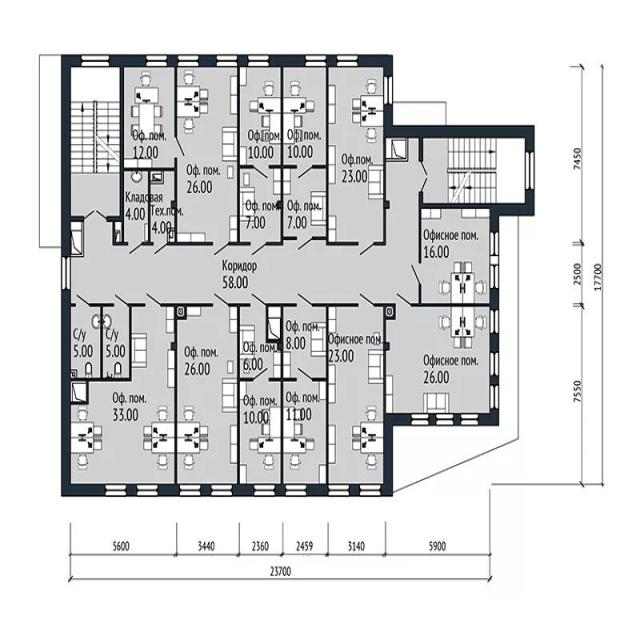Bathrooms: (72, 307, 100, 377), (104, 308, 129, 378)
Corridors: (71, 138, 418, 302), (124, 172, 147, 241), (151, 172, 174, 241)
Doors: (418, 161, 429, 191), (84, 207, 107, 221), (252, 365, 269, 381), (250, 241, 267, 257), (410, 263, 422, 285), (296, 165, 312, 181), (297, 291, 313, 307), (213, 291, 229, 307), (212, 242, 229, 257), (297, 236, 312, 252), (358, 242, 374, 257), (396, 292, 412, 307), (359, 291, 374, 307), (297, 366, 313, 381), (146, 291, 161, 307), (114, 291, 129, 307), (253, 165, 268, 181), (175, 136, 186, 157), (251, 291, 266, 306), (153, 242, 169, 256), (76, 290, 89, 306), (128, 242, 142, 256)
LBwalls: (61, 290, 105, 498), (384, 105, 535, 151), (61, 53, 81, 257), (381, 412, 411, 497), (490, 189, 535, 231), (358, 54, 393, 77), (269, 54, 306, 67), (110, 54, 146, 67), (478, 409, 499, 427), (232, 483, 253, 497), (158, 484, 180, 497), (308, 484, 328, 497), (199, 55, 217, 67), (490, 287, 499, 309), (490, 333, 500, 352), (236, 53, 248, 67), (200, 483, 212, 496), (274, 483, 286, 496), (167, 53, 178, 67), (349, 484, 360, 497), (126, 483, 136, 497), (327, 54, 337, 67), (489, 375, 500, 385), (430, 413, 436, 426), (455, 413, 461, 425)
Offices: (71, 307, 174, 483), (386, 308, 490, 413), (178, 307, 237, 483), (178, 68, 236, 241), (329, 308, 383, 484), (329, 67, 383, 241), (422, 210, 490, 303), (124, 68, 174, 166), (284, 382, 326, 483), (239, 382, 281, 483), (284, 68, 325, 164), (241, 68, 280, 165), (240, 169, 281, 242), (284, 307, 326, 378), (240, 307, 281, 378), (283, 169, 326, 235)
Stairs: (72, 68, 119, 215), (423, 139, 525, 203)
Walls: (106, 67, 213, 246), (160, 303, 214, 483), (312, 302, 359, 485), (311, 67, 359, 246), (70, 303, 146, 405), (266, 302, 298, 484), (266, 68, 297, 246), (418, 191, 491, 264), (228, 67, 256, 246), (229, 303, 254, 484), (374, 138, 409, 246), (374, 303, 397, 413), (410, 283, 490, 307), (72, 214, 84, 258), (174, 67, 177, 137), (419, 139, 423, 162), (71, 302, 77, 307)
Windows: (490, 231, 500, 289), (525, 150, 535, 190), (81, 54, 109, 67), (61, 256, 71, 291), (105, 483, 127, 497), (136, 484, 158, 498), (179, 483, 201, 497), (211, 483, 233, 497), (253, 483, 275, 497), (285, 483, 306, 497), (328, 483, 349, 497), (360, 483, 381, 497), (383, 76, 393, 105), (336, 54, 358, 67), (305, 54, 327, 67), (216, 54, 238, 67), (146, 54, 168, 67), (248, 54, 269, 67), (178, 54, 199, 67), (410, 413, 429, 427), (460, 413, 479, 427), (435, 413, 454, 426), (489, 385, 499, 409), (490, 352, 498, 377), (491, 309, 499, 333)
